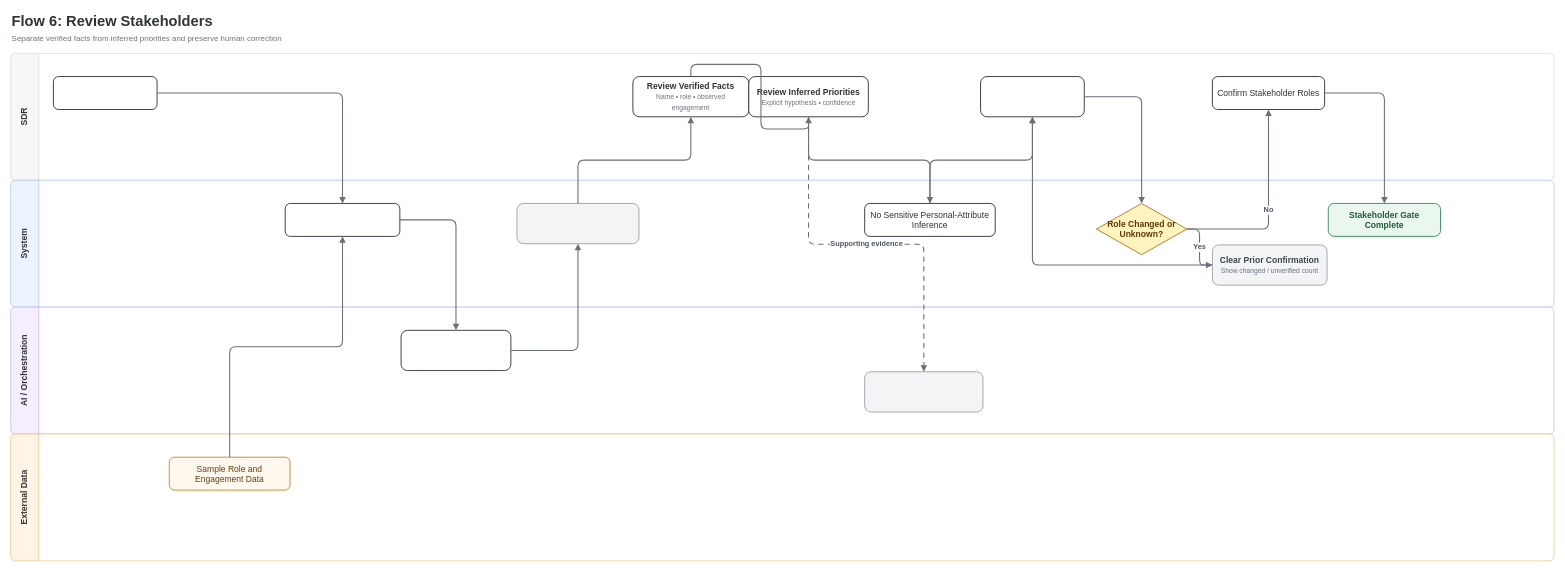
This 1565x572 diagram has some shape labels left out. Each missing label, with the centre of its shape:
Display Fixed Suggestions Buying role • priorities: pixel 455 350
Edit Buying Role Or choose Unknown: pixel 1032 96
Evidence Detail Opening Not implemented in fixed build: pixel 923 391
Open Stakeholder Map: pixel 105 93
Required Fact / Inference Split Not explicit in fixed build: pixel 577 223
Show 3 Matched Stakeholders: pixel 342 220
